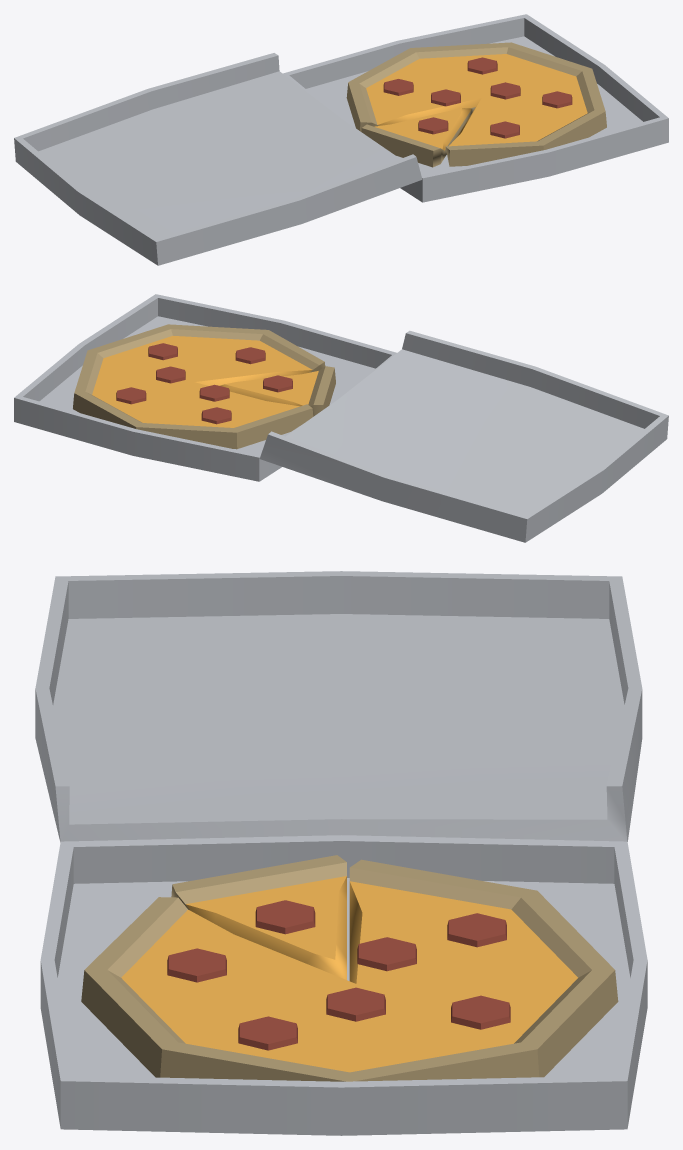
Rendered from SM_Item_Pizza_Box_01.fbx.
The picture shows the model from 3 angles, top to bottom: view 1: azimuth 30°, elevation 25°; view 2: azimuth 150°, elevation 25°; view 3: azimuth 270°, elevation 25°; orthographic projection. The views are drawn at different scales.
Parts seen in each view (by area): view 1: SM_Item_Pizza_Lid_e01, SM_Item_Pizza_01, SM_Item_Pizza_Box_01, SM_Item_Pizza_Slice_01; view 2: SM_Item_Pizza_Lid_e01, SM_Item_Pizza_01, SM_Item_Pizza_Box_01, SM_Item_Pizza_Slice_01; view 3: SM_Item_Pizza_Lid_e01, SM_Item_Pizza_01, SM_Item_Pizza_Box_01, SM_Item_Pizza_Slice_01.
Boxes of the visible parts, x1,y1,x2,y2 form: SM_Item_Pizza_Lid_e01: (14, 53, 422, 265); SM_Item_Pizza_01: (346, 42, 606, 166); SM_Item_Pizza_Box_01: (283, 14, 668, 202); SM_Item_Pizza_Slice_01: (361, 108, 472, 167); SM_Item_Pizza_Lid_e01: (259, 330, 668, 542); SM_Item_Pizza_01: (73, 324, 325, 449); SM_Item_Pizza_Box_01: (14, 294, 396, 481); SM_Item_Pizza_Slice_01: (220, 366, 335, 416); SM_Item_Pizza_Lid_e01: (35, 571, 642, 842); SM_Item_Pizza_01: (81, 859, 618, 1081); SM_Item_Pizza_Box_01: (40, 835, 647, 1135); SM_Item_Pizza_Slice_01: (171, 855, 346, 979).
Bounding box in the file's own units: 112 × 9.89 × 56.75.
